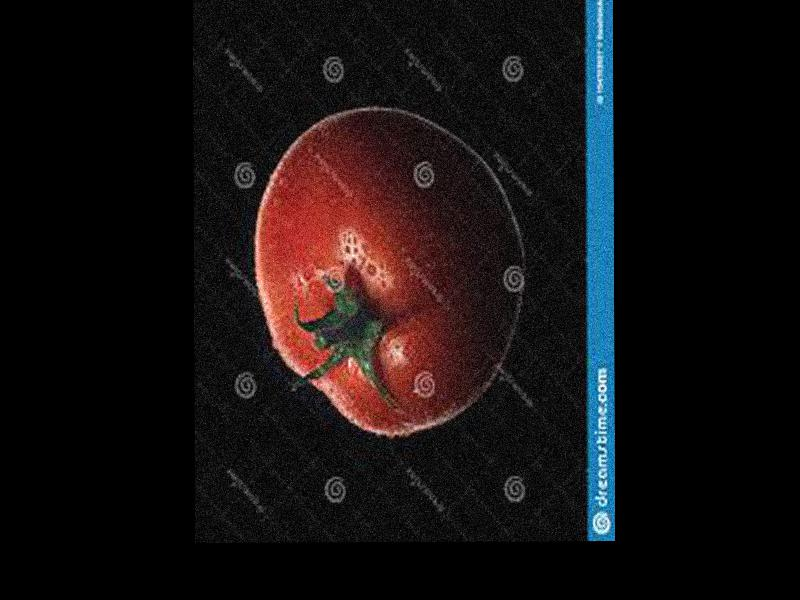Tomato: (253, 104, 523, 437)
